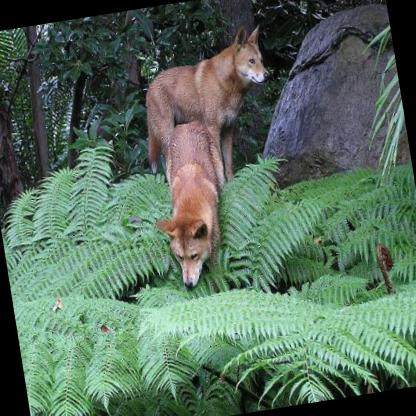dingo: (128, 22, 281, 166), (140, 114, 240, 292)
